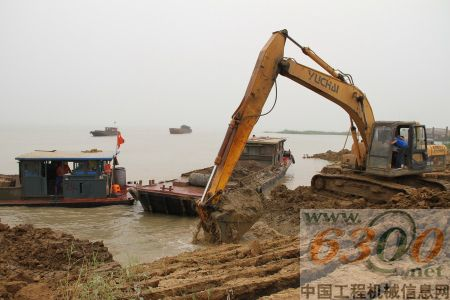excavator: (194, 20, 450, 249)
